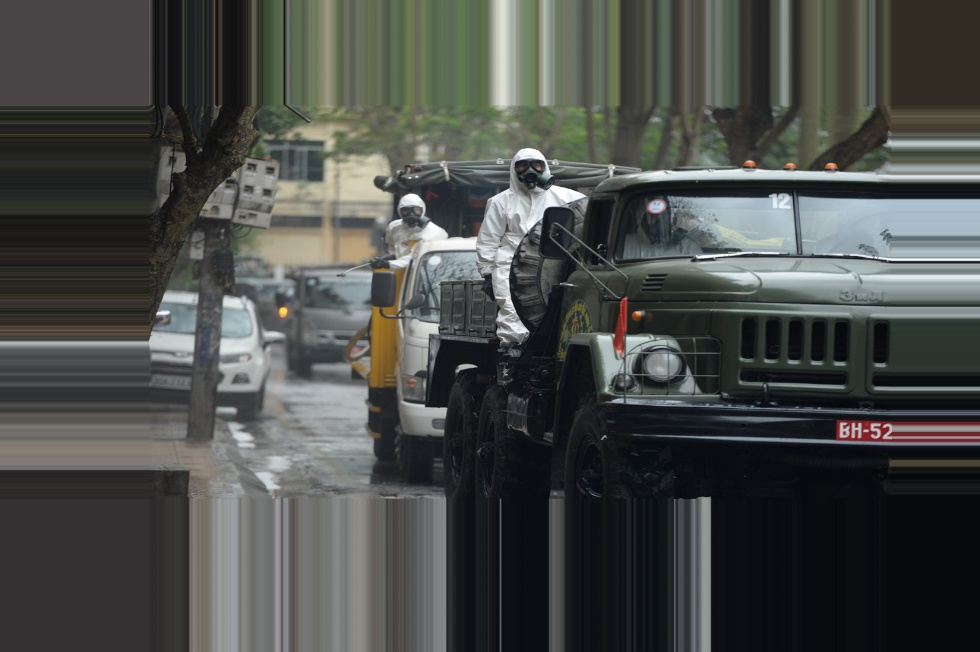plate: (830, 413, 913, 449)
